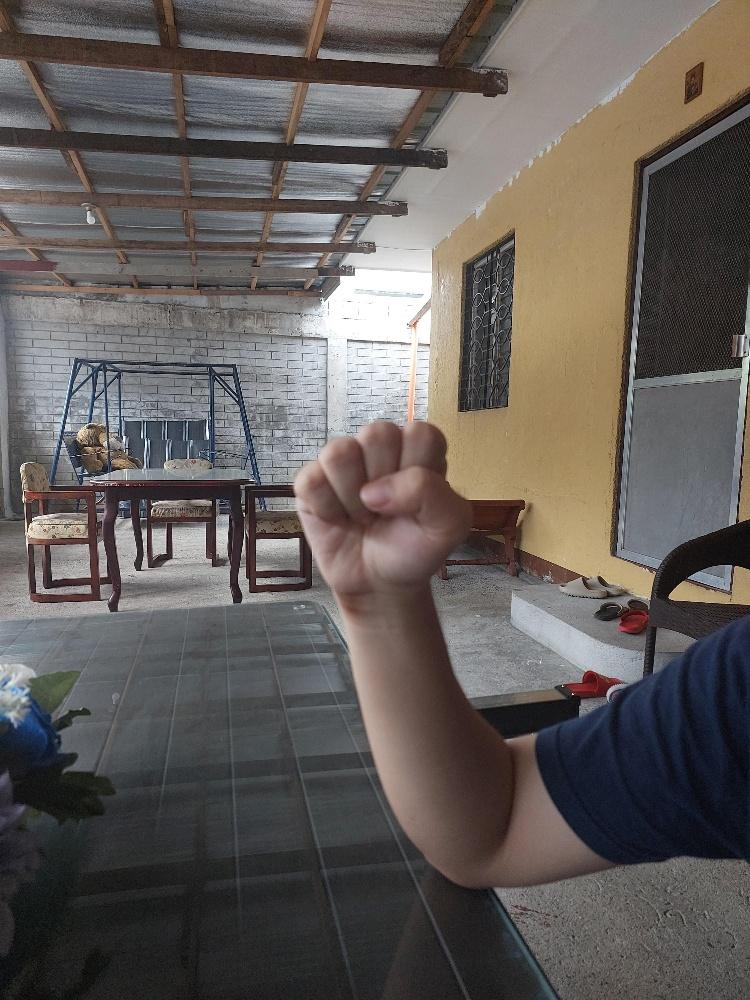s: (290, 410, 477, 607)
